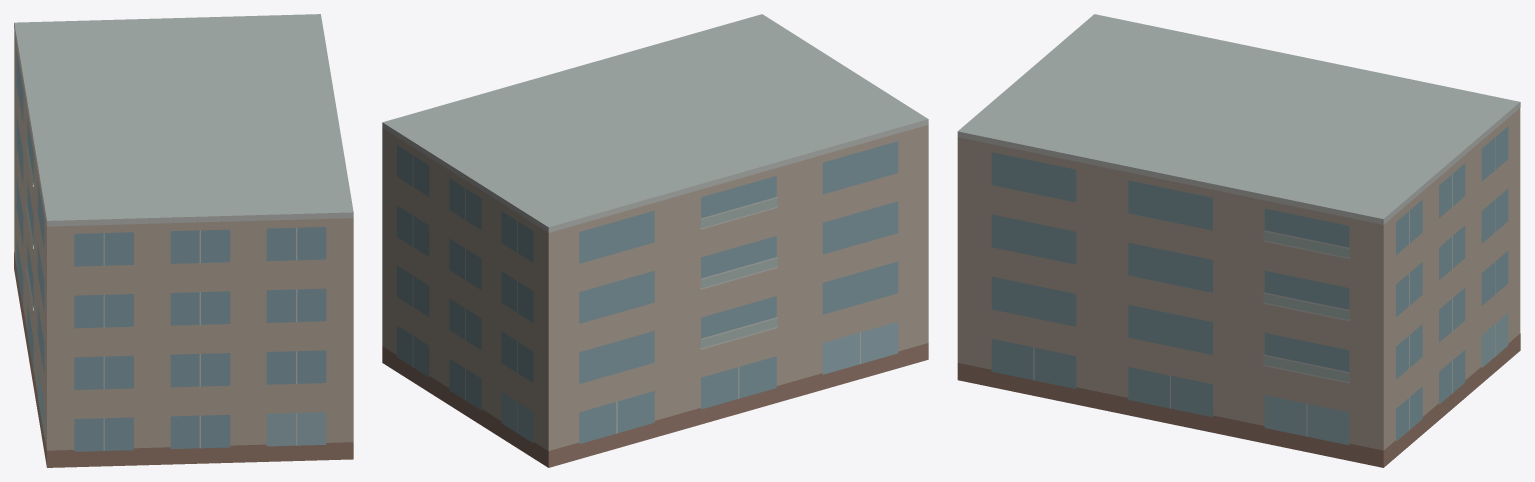
File: survey-upis-32993595.glb
3 renders of one model, left to right at view 1: azimuth 30°, elevation 25°; view 2: azimuth 150°, elevation 25°; view 3: azimuth 270°, elevation 25°, orthographic. The views are drawn at different scales.
Visible parts, largest first — view 1: survey-upis-32993595.tmp; view 2: survey-upis-32993595.tmp; view 3: survey-upis-32993595.tmp.
Part boxes in pixels (x1,y1,x2,y2): survey-upis-32993595.tmp: [14, 14, 353, 467]; survey-upis-32993595.tmp: [382, 14, 928, 467]; survey-upis-32993595.tmp: [957, 14, 1520, 467].
Size of the model in its own units: 18.76 by 10.6 by 21.75.
